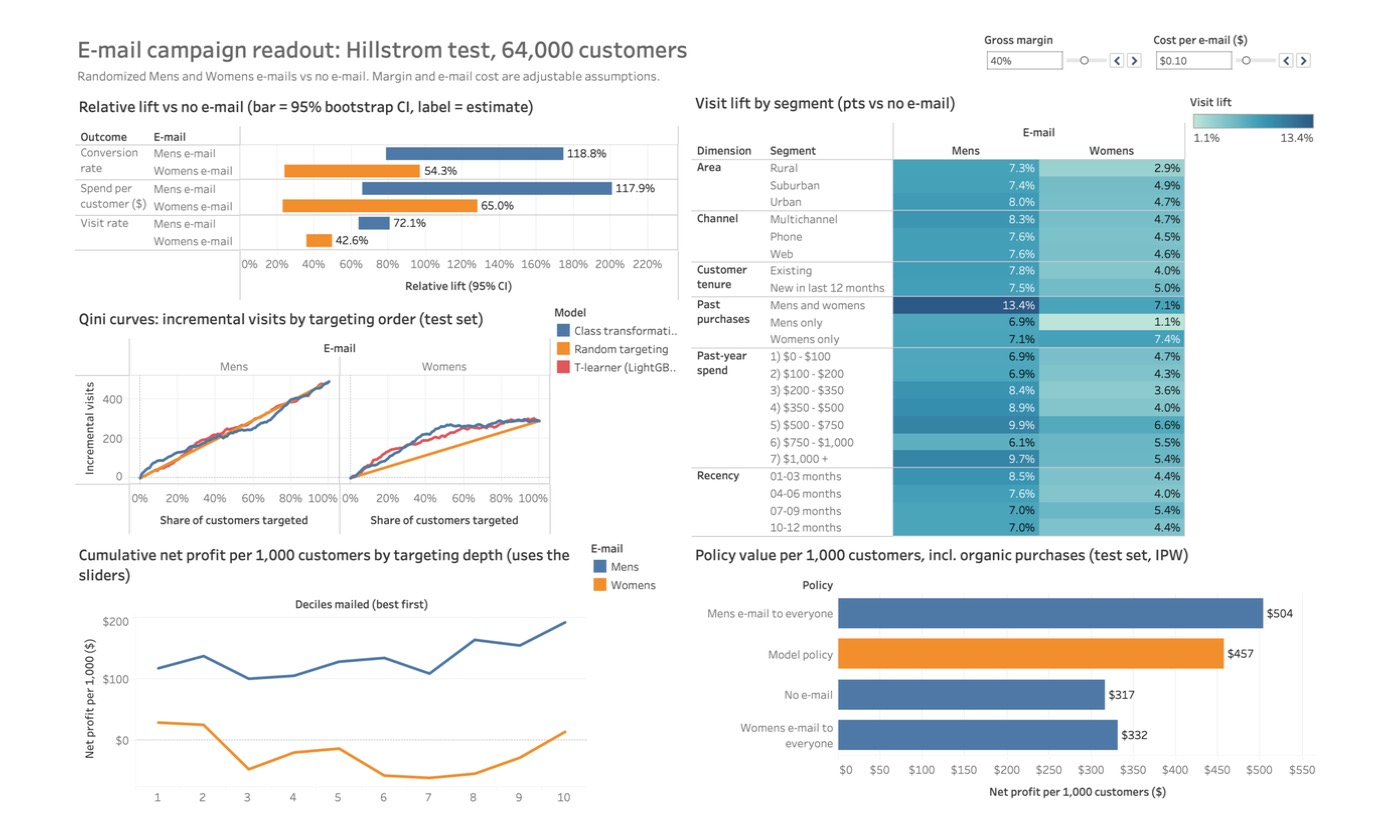

What the dashboard file says about the page in this screenshot:
{"tool":"tableau","page":{"name":"Campaign readout","canvas":[1380,860],"ordinal":0},"visuals":[{"type":"text","box":[16,6,900,36]},{"type":"parameter","param":"[Parameters].[Parameter 1]","box":[1010,6,175,62]},{"type":"parameter","param":"[Parameters].[Parameter 2]","box":[1195,6,175,62]},{"type":"text","box":[16,42,900,24]},{"type":"worksheet","title":"Visit lift by segment","mark":"Square","rows":["dimension","segment_value"],"cols":["arm"],"box":[690,68,540,490]},{"type":"worksheet","title":"Relative lift (95% CI)","mark":"GanttBar","rows":["outcome_label","arm_label"],"cols":["rel_ci_low"],"box":[16,72,660,228]},{"type":"legend","title":"Visit lift by segment","param":"[federated.segments].[sum:visit_lift:qk]","box":[1235,74,140,160]},{"type":"worksheet","title":"Qini curves","mark":"Line","rows":["incremental_visits"],"cols":["arm","fraction"],"box":[16,304,520,252]},{"type":"legend","title":"Qini curves","param":"[federated.qini].[none:series:nk]","box":[540,304,145,110]},{"type":"worksheet","title":"Profit by targeting depth","mark":"Line","rows":["Calculation_profit_depth"],"cols":["decile"],"box":[16,562,560,290]},{"type":"legend","title":"Profit by targeting depth","param":"[federated.deciles].[none:arm:nk]","box":[580,562,100,80]},{"type":"worksheet","title":"Targeting policies","mark":"Bar","rows":["policy"],"cols":["Calculation_policy_profit"],"box":[690,562,685,290]}]}

Visuals, with their boxes in screenshot pixels (x1, y1, x2, y2), scaled from the page's 1380x860 canvas onto the 1383x837 screenshot:
text: pyautogui.locateOnScreen(16, 6, 918, 41)
parameter: pyautogui.locateOnScreen(1012, 6, 1188, 66)
parameter: pyautogui.locateOnScreen(1198, 6, 1373, 66)
text: pyautogui.locateOnScreen(16, 41, 918, 64)
"Visit lift by segment" worksheet (Square marks): pyautogui.locateOnScreen(692, 66, 1233, 543)
"Relative lift (95% CI)" worksheet (GanttBar marks): pyautogui.locateOnScreen(16, 70, 677, 292)
"Visit lift by segment" legend: pyautogui.locateOnScreen(1238, 72, 1378, 228)
"Qini curves" worksheet (Line marks): pyautogui.locateOnScreen(16, 296, 537, 541)
"Qini curves" legend: pyautogui.locateOnScreen(541, 296, 686, 403)
"Profit by targeting depth" worksheet (Line marks): pyautogui.locateOnScreen(16, 547, 577, 829)
"Profit by targeting depth" legend: pyautogui.locateOnScreen(581, 547, 681, 625)
"Targeting policies" worksheet (Bar marks): pyautogui.locateOnScreen(692, 547, 1378, 829)
